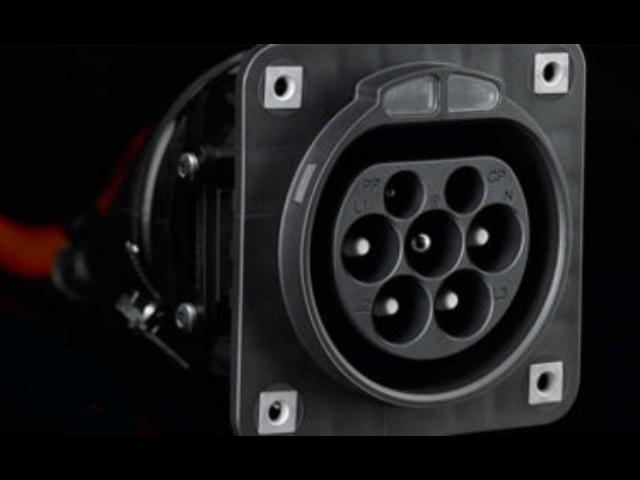inlet: (333, 157, 529, 360)
inlet-above-left: (384, 170, 424, 219)
inlet-above-right: (444, 166, 484, 215)
inlet-below-left: (371, 274, 430, 345)
inlet-below-right: (434, 268, 491, 340)
inlet-circle: (404, 208, 462, 278)
inlet-circle-left: (340, 213, 400, 284)
inlet-circle-right: (466, 203, 522, 273)
